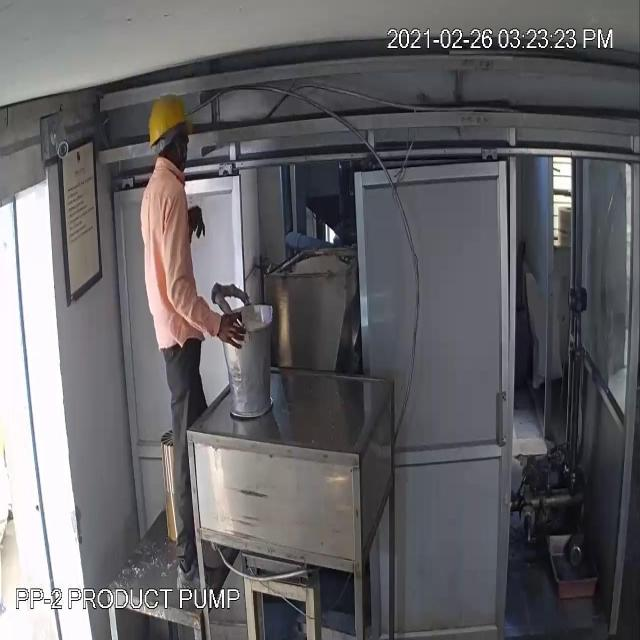helmet: (144, 92, 193, 148)
